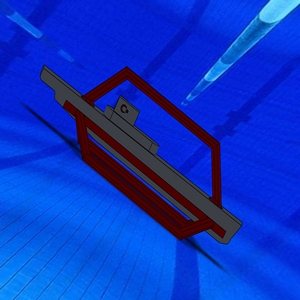submarine: (37, 46, 249, 251)
